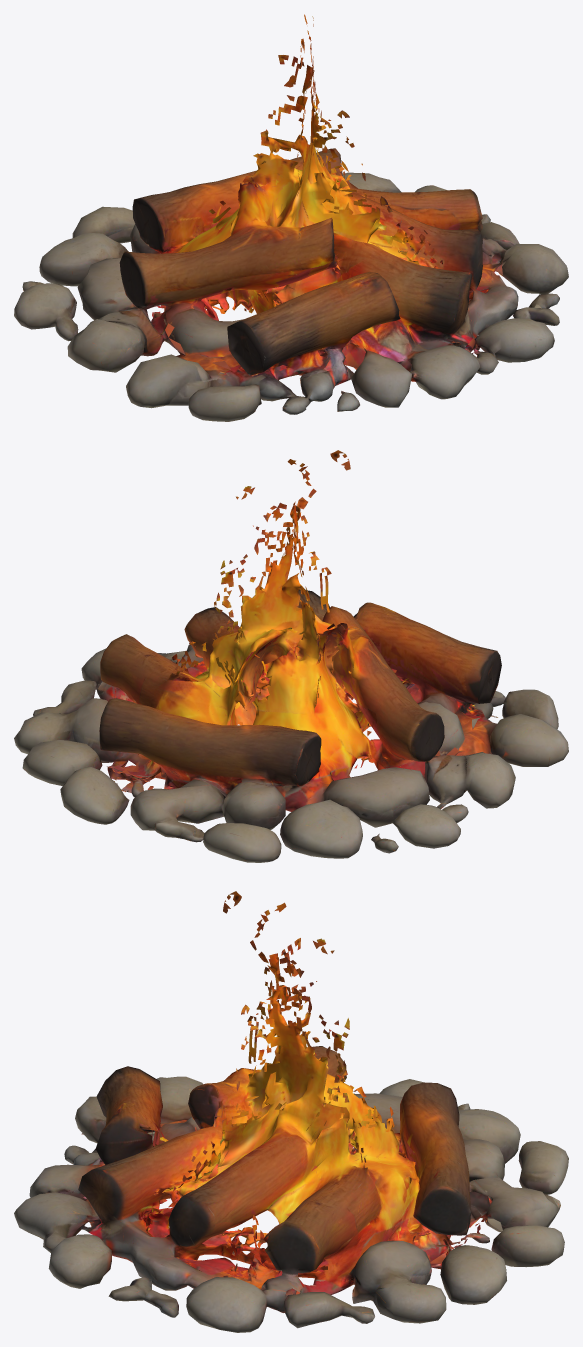
The model's file is lagerfeuer_original.glb.
The picture shows the model from 3 angles, top to bottom: view 1: azimuth 30°, elevation 25°; view 2: azimuth 150°, elevation 25°; view 3: azimuth 270°, elevation 25°; orthographic projection. The views are drawn at different scales.
Size of the model in its own units: 1.97 by 1.23 by 1.94.
1 material, 1 textured.
